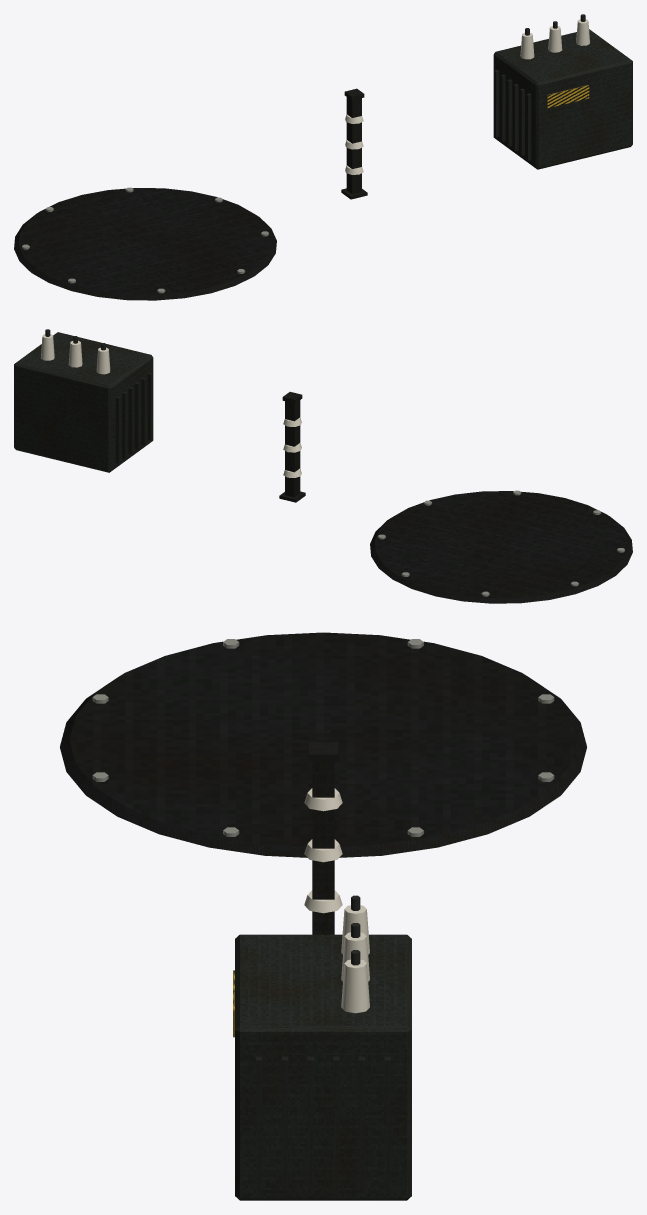
Rendered from hotseat.glb.
The picture shows the model from 3 angles, top to bottom: view 1: azimuth 30°, elevation 25°; view 2: azimuth 150°, elevation 25°; view 3: azimuth 270°, elevation 25°; orthographic projection. The views are drawn at different scales.
Visible parts, largest first — view 1: plate_base, transformer, post; view 2: plate_base, transformer, post; view 3: plate_base, transformer, post.
Boxes of the visible parts, <box> form: plate_base: <box>14,187,276,300</box>; transformer: <box>493,14,632,169</box>; post: <box>341,88,367,199</box>; plate_base: <box>370,490,632,603</box>; transformer: <box>14,329,153,472</box>; post: <box>279,392,305,502</box>; plate_base: <box>60,632,586,857</box>; transformer: <box>233,895,411,1200</box>; post: <box>304,742,342,934</box>.
Bounding box in the file's own units: 8.39 × 1.58 × 3.28.
7 materials, 4 textured.
